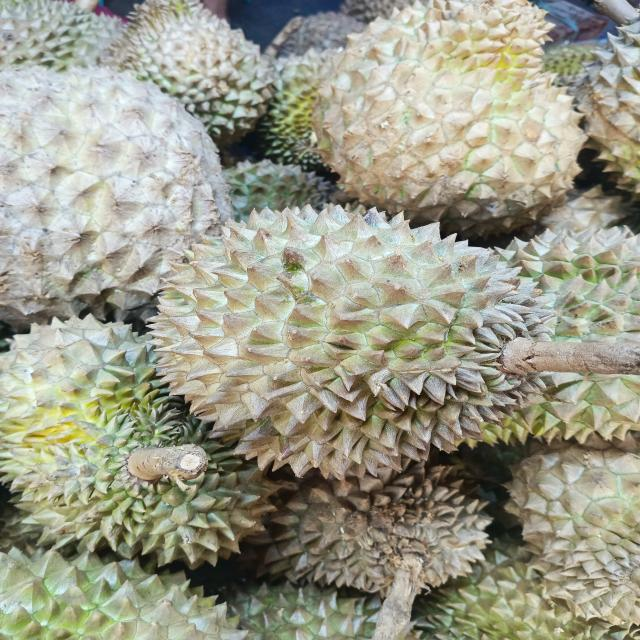mature: (148, 199, 640, 480), (0, 315, 275, 568), (318, 0, 580, 249), (0, 67, 232, 330), (259, 459, 490, 597), (506, 441, 640, 626), (107, 0, 275, 146), (508, 443, 640, 625), (0, 548, 249, 640), (414, 537, 627, 640)
